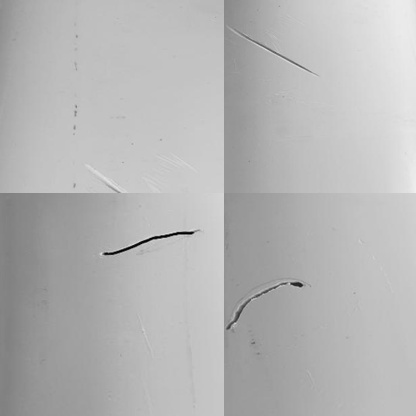fengxi: (222, 271, 317, 340), (92, 228, 201, 254)
sunshang: (225, 20, 319, 76), (82, 161, 127, 197)
